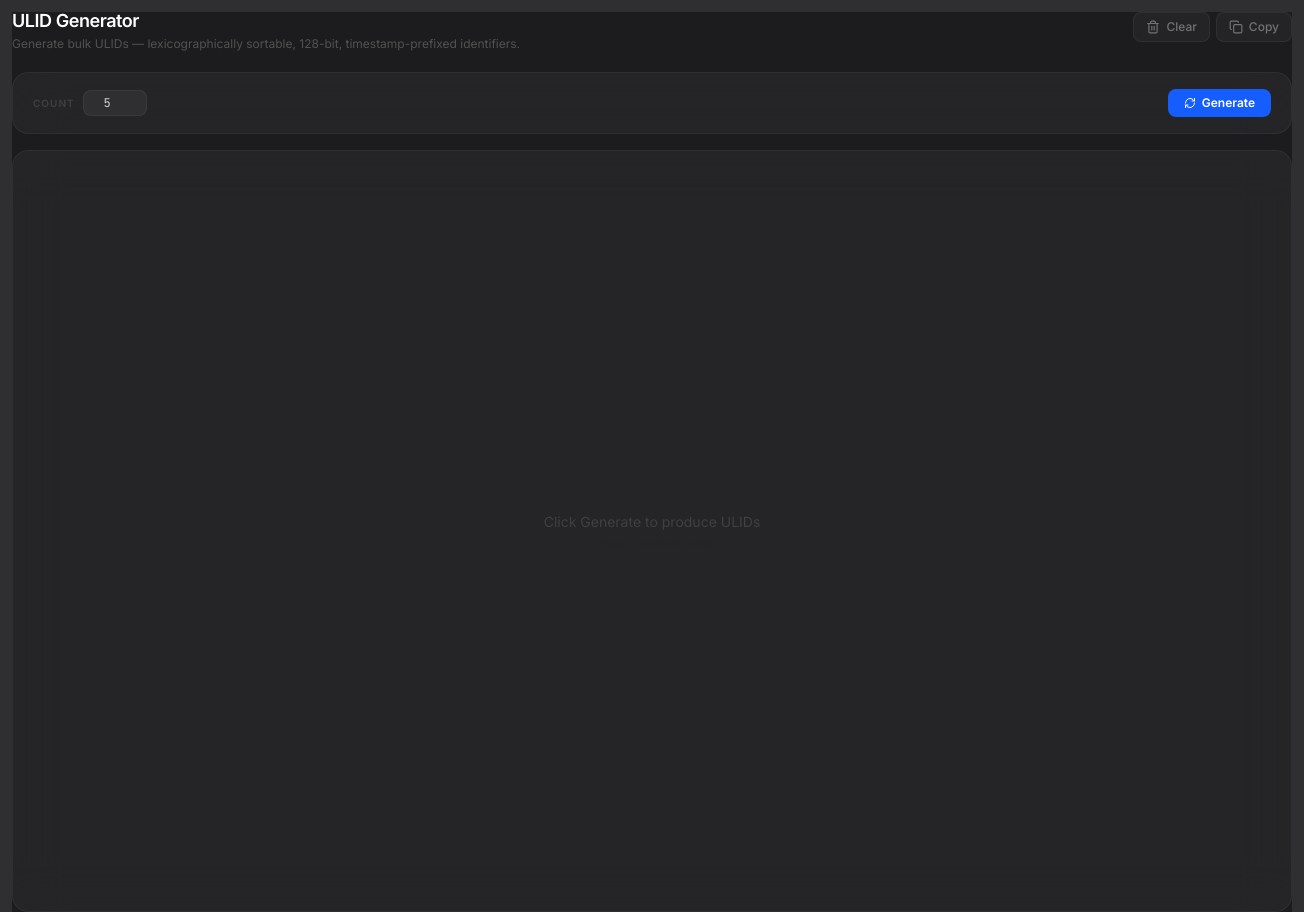
Test: ULIDGenerator › clears the ULID list
This screenshot has width=1304, height=912.
Click the button "Generate".
click(1219, 103)  # box [1168,89,1271,117]
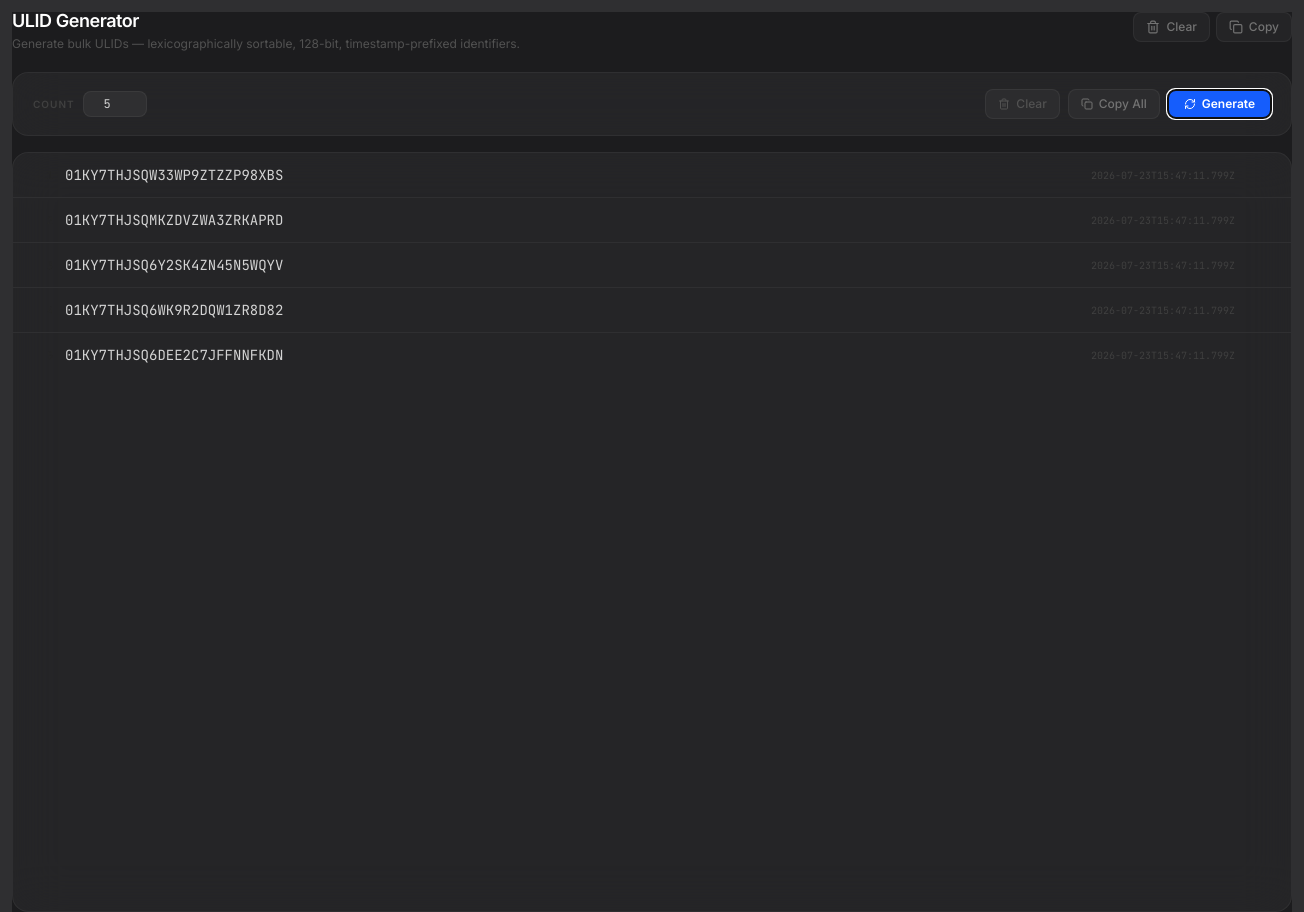
Click the button titled "Clear all" in the row of "ULID Generator".
click(1172, 27)  # box [1133,12,1210,42]
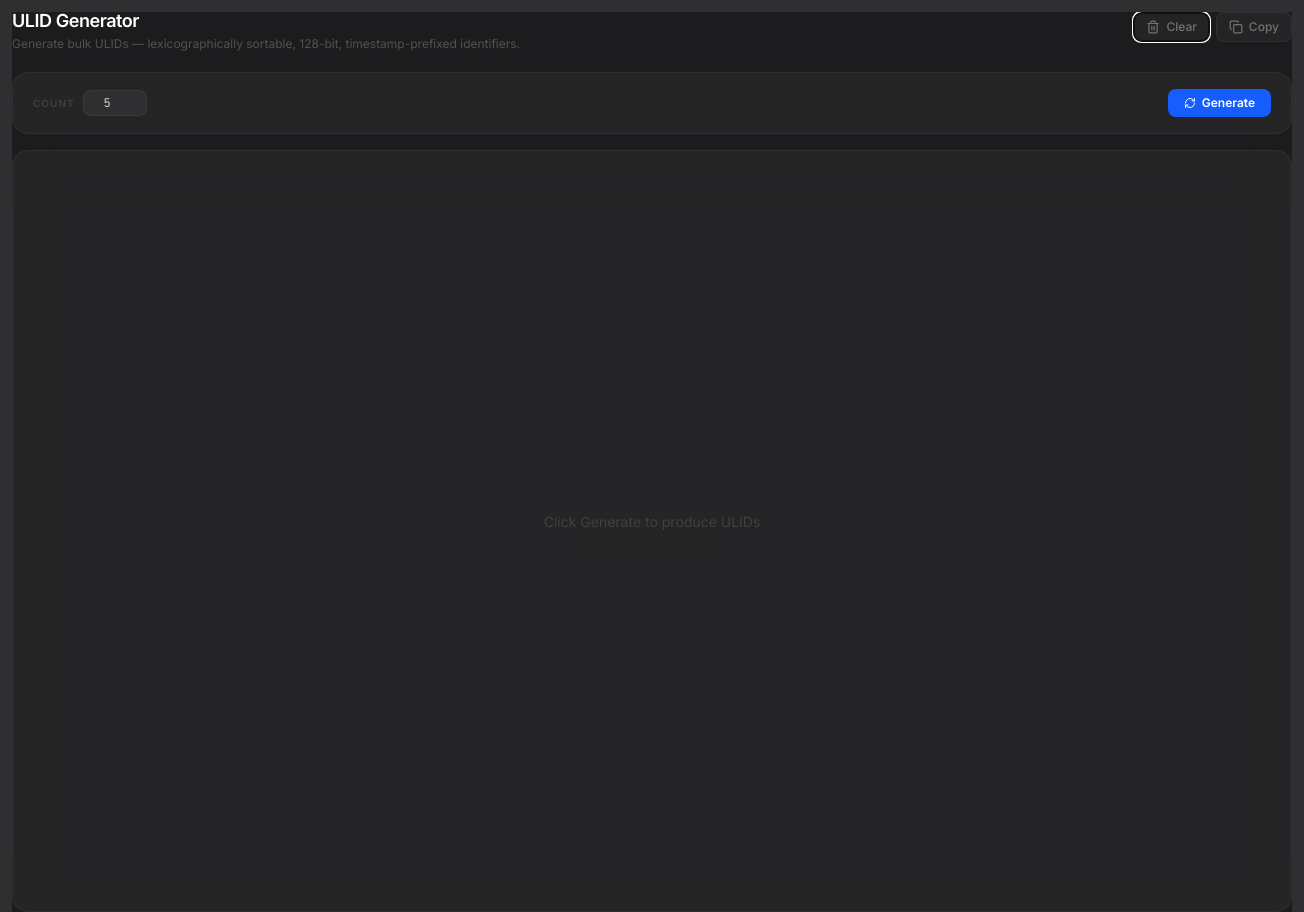
Check: the text "Click Generate to produce ULIDs" is shown, box [544,512,760,532]
